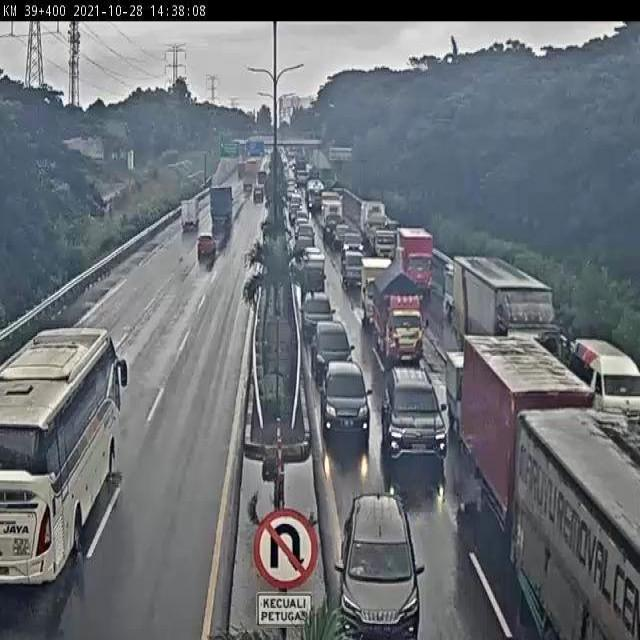big bus: (0, 327, 130, 584)
big truck: (512, 413, 640, 640), (460, 335, 592, 553)
car: (336, 493, 419, 639), (379, 356, 455, 459), (318, 356, 377, 453), (311, 324, 353, 381), (301, 287, 335, 341)
small bus: (568, 340, 640, 420)
small truck: (396, 222, 432, 282), (434, 262, 451, 318)
truck-l-: (454, 256, 550, 359)
truck-s-: (372, 275, 424, 360), (359, 252, 393, 323)
